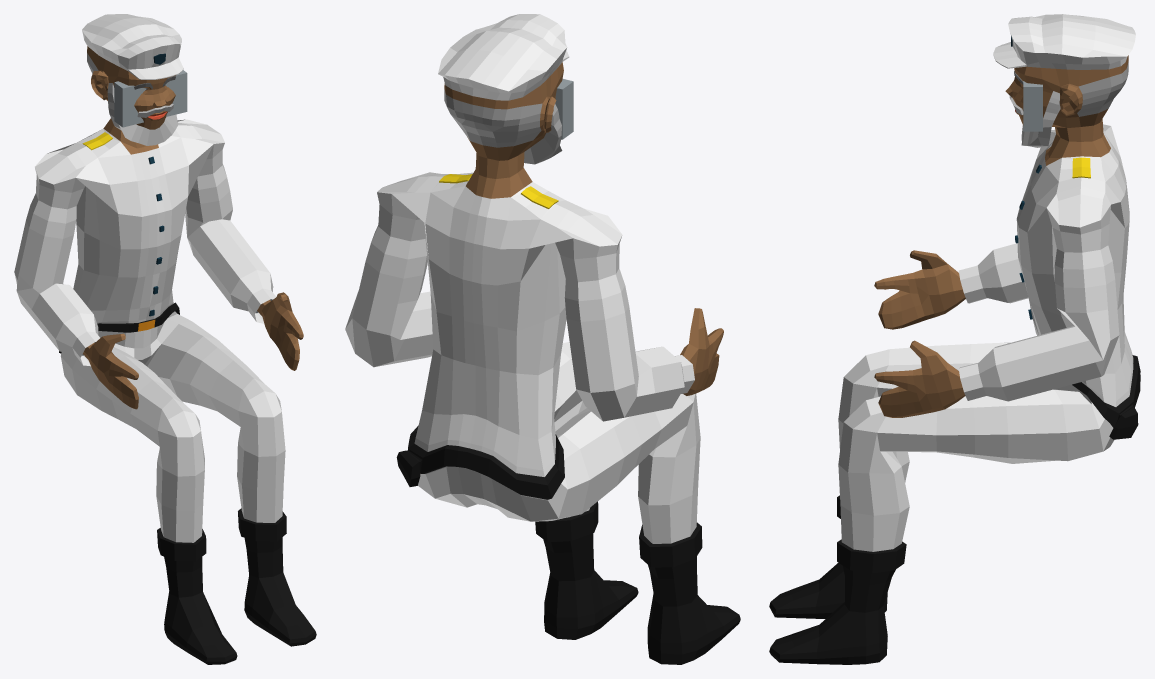
The model's file is TrafficPolice_Sit_Mask.fbx.
3 renders of one model, left to right at view 1: azimuth 30°, elevation 25°; view 2: azimuth 150°, elevation 25°; view 3: azimuth 270°, elevation 25°, orthographic. The views are drawn at different scales.
Visible parts, largest first — view 1: TrafficPolice_Sit_Mask; view 2: TrafficPolice_Sit_Mask; view 3: TrafficPolice_Sit_Mask.
Part boxes in pixels (<box>): TrafficPolice_Sit_Mask: <box>14,14,316,664</box>; TrafficPolice_Sit_Mask: <box>345,14,740,664</box>; TrafficPolice_Sit_Mask: <box>769,14,1140,664</box>.
Bounding box in the file's own units: 0.324 × 0.7553 × 0.4155.
